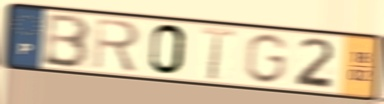0: (148, 23, 188, 78)
2: (294, 37, 337, 90)
B: (41, 12, 93, 71)
G: (242, 32, 291, 86)
R: (91, 16, 143, 74)
T: (200, 24, 238, 82)
